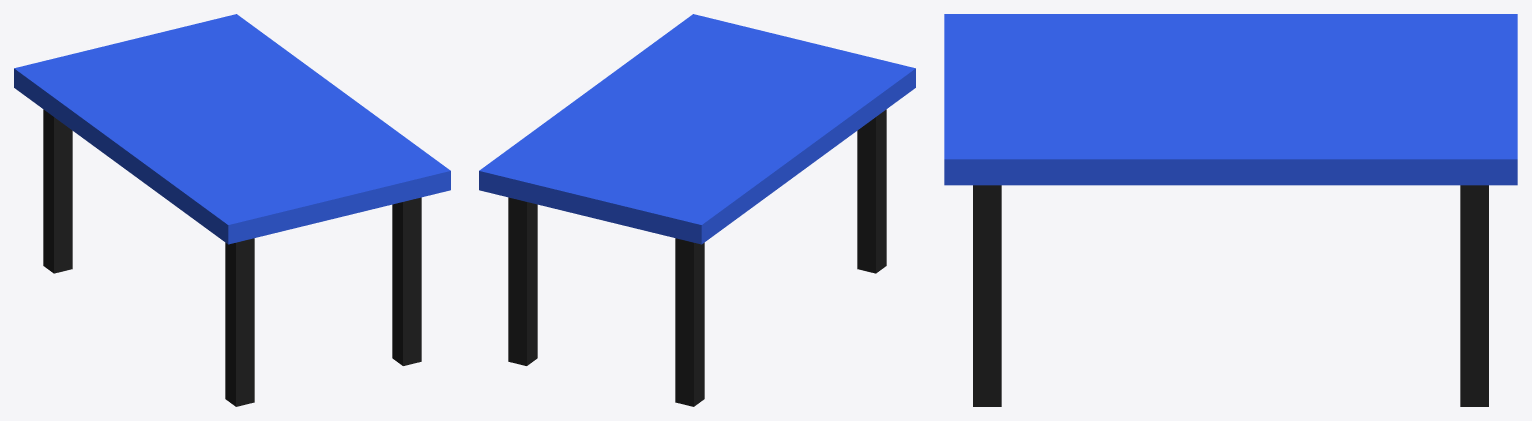
File: dice_2og-83-6er esstisch.obj
3 renders of one model, left to right at view 1: azimuth 30°, elevation 25°; view 2: azimuth 150°, elevation 25°; view 3: azimuth 270°, elevation 25°, orthographic. The views are drawn at different scales.
Parts seen in each view (by area): view 1: 6er esstisch; view 2: 6er esstisch; view 3: 6er esstisch.
Boxes of the visible parts, <box> form: 6er esstisch: <box>14,14,450,406</box>; 6er esstisch: <box>479,14,915,406</box>; 6er esstisch: <box>944,14,1517,406</box>.
Bounding box in the file's own units: 1.2 × 1 × 2.
1 material, 1 textured.
